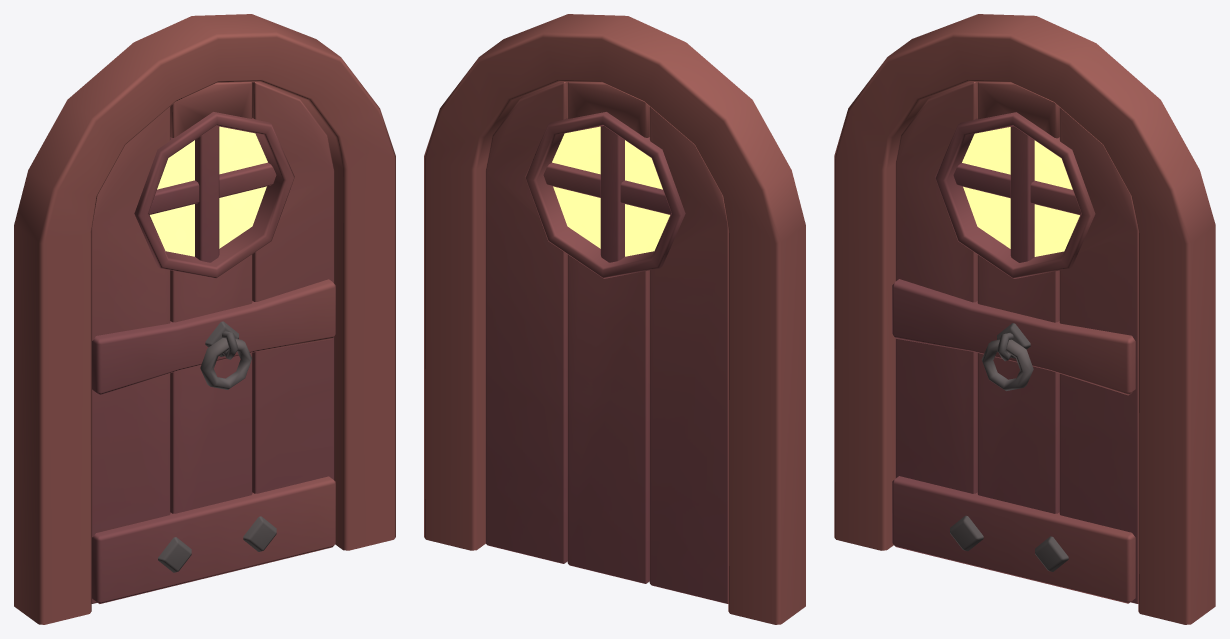
Rendered from door1.glb.
3 renders of one model, left to right at view 1: azimuth 30°, elevation 25°; view 2: azimuth 150°, elevation 25°; view 3: azimuth 330°, elevation 25°, orthographic.
Parts seen in each view (by area): view 1: Door.022, Wood.arch.021; view 2: Door.022, Wood.arch.021; view 3: Door.022, Wood.arch.021.
Part boxes in pixels (bbox=[...]): Door.022: bbox=[91, 82, 335, 603]; Wood.arch.021: bbox=[14, 14, 395, 624]; Door.022: bbox=[485, 82, 728, 603]; Wood.arch.021: bbox=[424, 14, 805, 624]; Door.022: bbox=[892, 82, 1138, 603]; Wood.arch.021: bbox=[834, 14, 1215, 624].
Size of the model in its own units: 1.49 by 2.18 by 0.3097.
2 materials, 2 textured.
